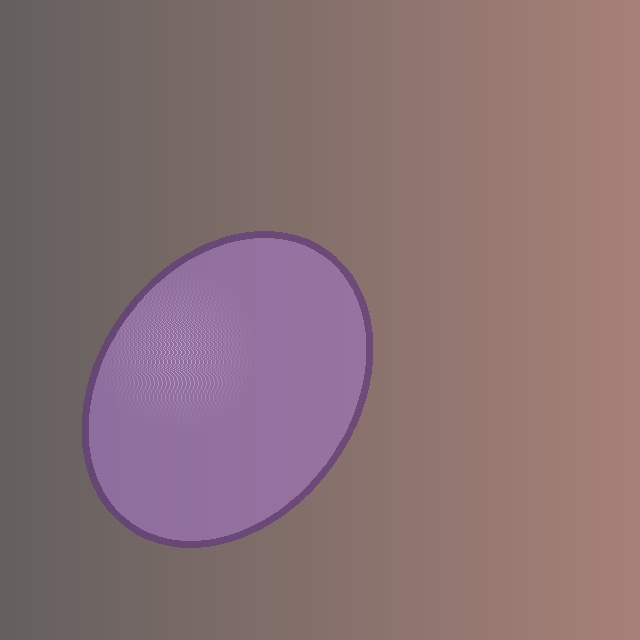lens: (85, 234, 369, 544)
